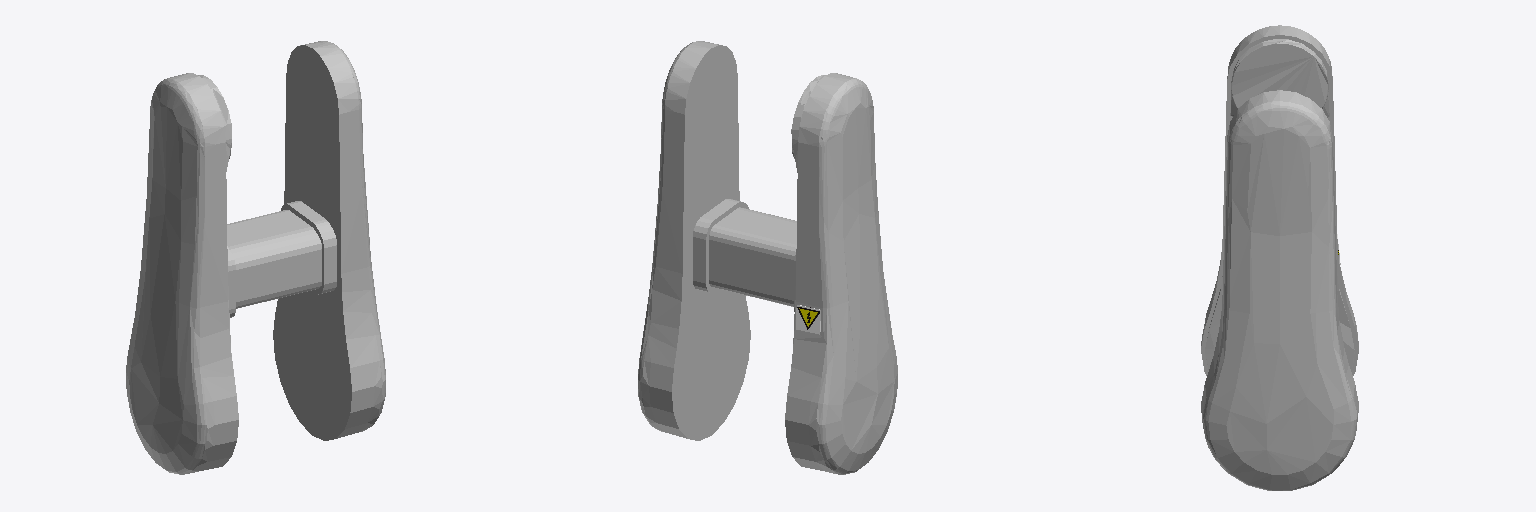
3 views of the same model, side by side, from view 1: azimuth 30°, elevation 25°; view 2: azimuth 150°, elevation 25°; view 3: azimuth 270°, elevation 25° (orthographic).
Visible parts, largest first — view 1: nr33; view 2: nr33, Box509; view 3: nr33.
Part boxes in pixels (x1,y1,x2,y2): nr33: (126,41,385,474); nr33: (638,41,897,474); Box509: (796,305,820,334); nr33: (1201,25,1358,490).
Size of the model in its own units: 219 by 391 by 145.
3 materials, 1 textured.